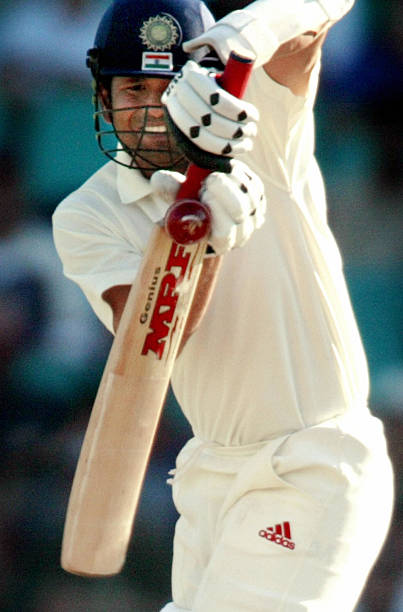bottom left: (38, 546, 93, 589)
bottom right: (98, 553, 139, 592)
top left: (142, 212, 172, 243)
